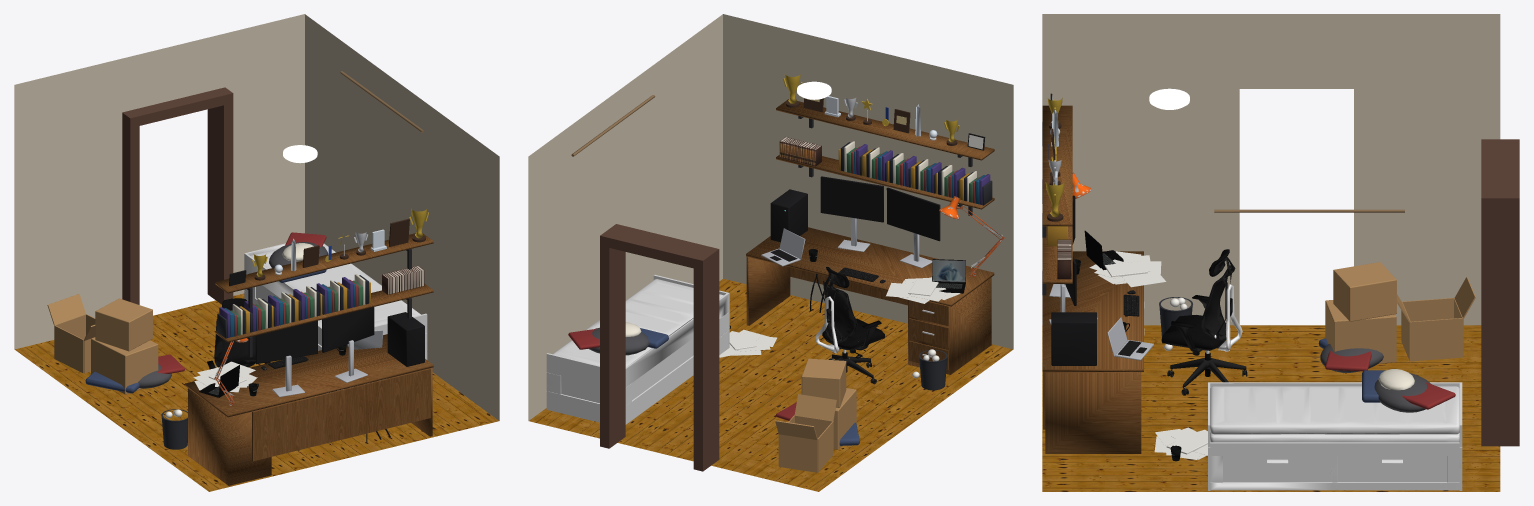
File: set4.glb
The picture shows the model from 3 angles, left to right: view 1: azimuth 30°, elevation 25°; view 2: azimuth 150°, elevation 25°; view 3: azimuth 270°, elevation 25°; orthographic projection. The views are drawn at different scales.
Visible parts, largest first — view 1: Static; view 2: Static; view 3: Static.
Boxes of the visible parts, box(x1,y1,x2,y2) form: Static: box(14, 14, 499, 491); Static: box(528, 14, 1013, 491); Static: box(1042, 14, 1519, 491).
Size of the model in its own units: 3.1 by 2.74 by 3.75.
Materials: 53 (20 with a texture image).
